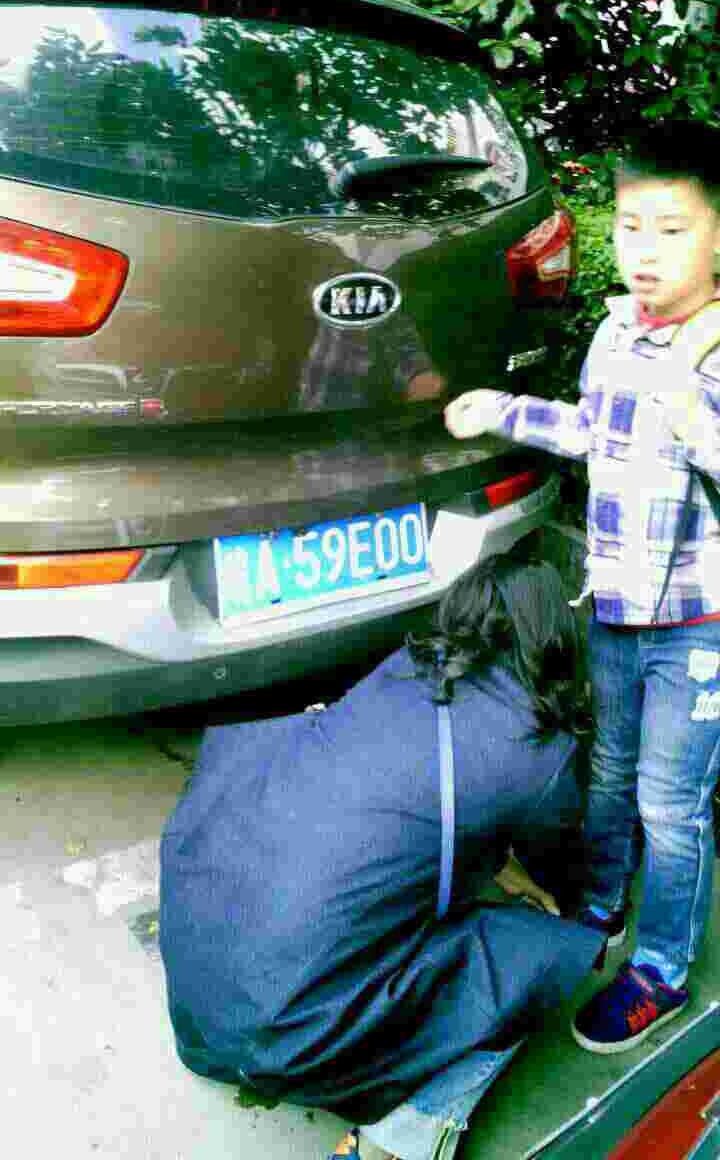license_plate: (220, 498, 429, 610)
